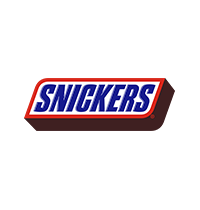snickers: (32, 82, 157, 111)
